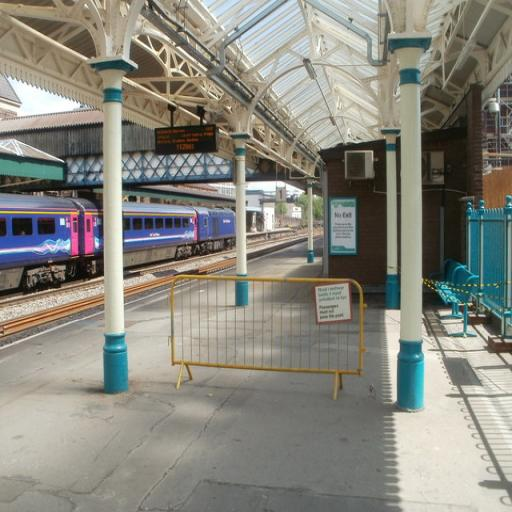platform_edge: (1, 247, 171, 348)
